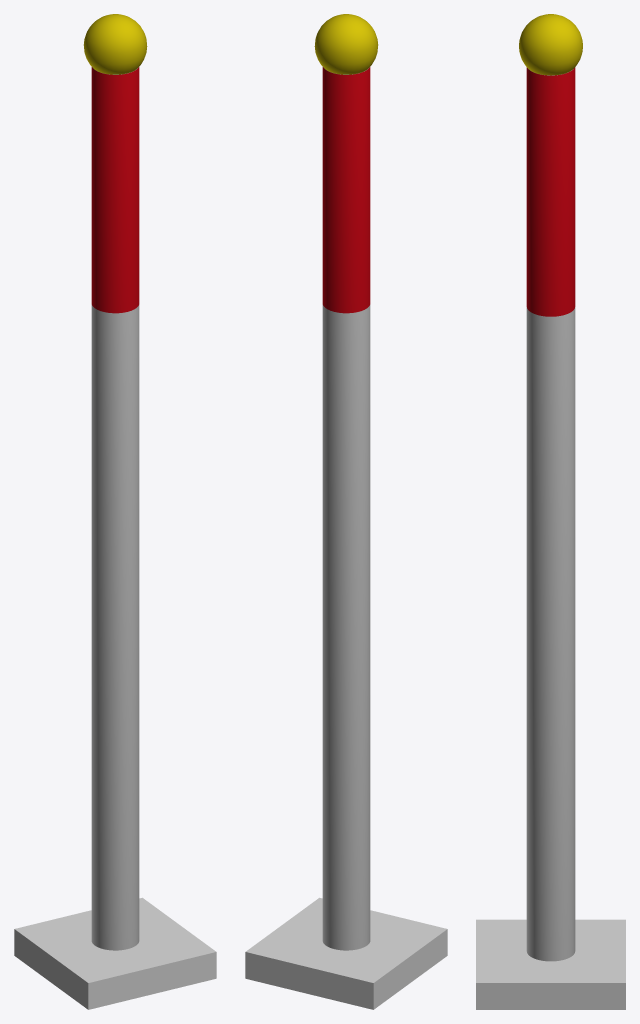
The model's file is NCCCO_pole.dae.
3 views of the same model, side by side, from view 1: azimuth 30°, elevation 25°; view 2: azimuth 150°, elevation 25°; view 3: azimuth 270°, elevation 25° (orthographic).
Visible parts, largest first — view 1: Plane; view 2: Plane; view 3: Plane.
Part boxes in pixels (left/top/right/bottom): Plane: left=14, top=14, right=216, bottom=1009; Plane: left=245, top=14, right=447, bottom=1009; Plane: left=476, top=14, right=625, bottom=1009.
Size of the model in its own units: 0.15 by 0.15 by 1.06.
